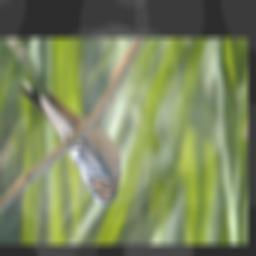Swallow: (14, 51, 122, 205)
